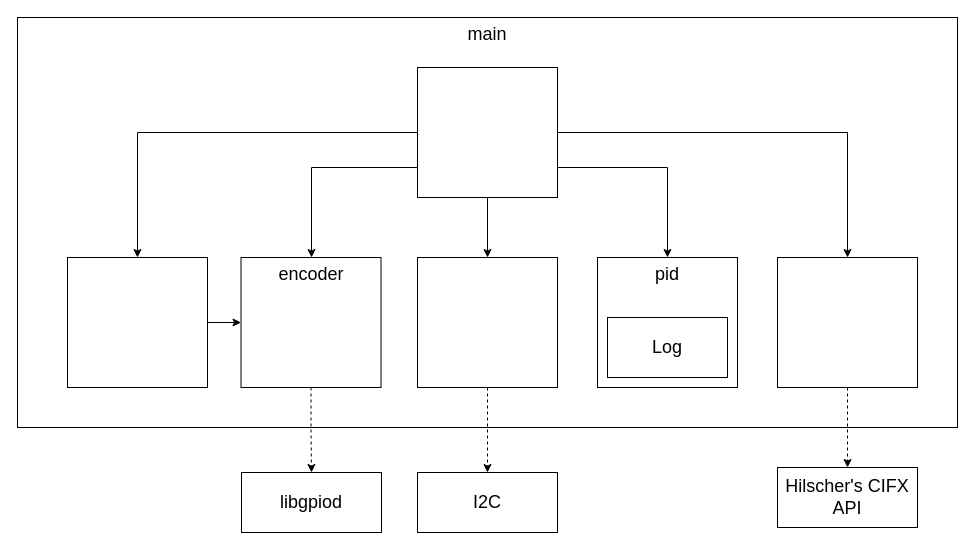
Image size: 975x550. Some labels were removed from this diagram. The shapes that lost their labels are listed below. From the top down, each one's centre as x and y in pixels, then its label:
At pixel 487 132: "control".
At pixel 137 322: "p_v_calc".
At pixel 487 322: "DFR0592".
At pixel 847 322: "comm".
